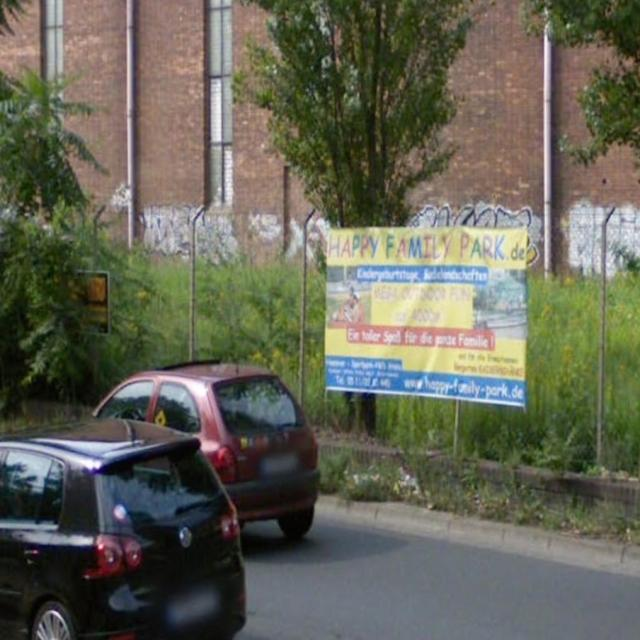Werbetafel frei: (325, 226, 530, 407)
